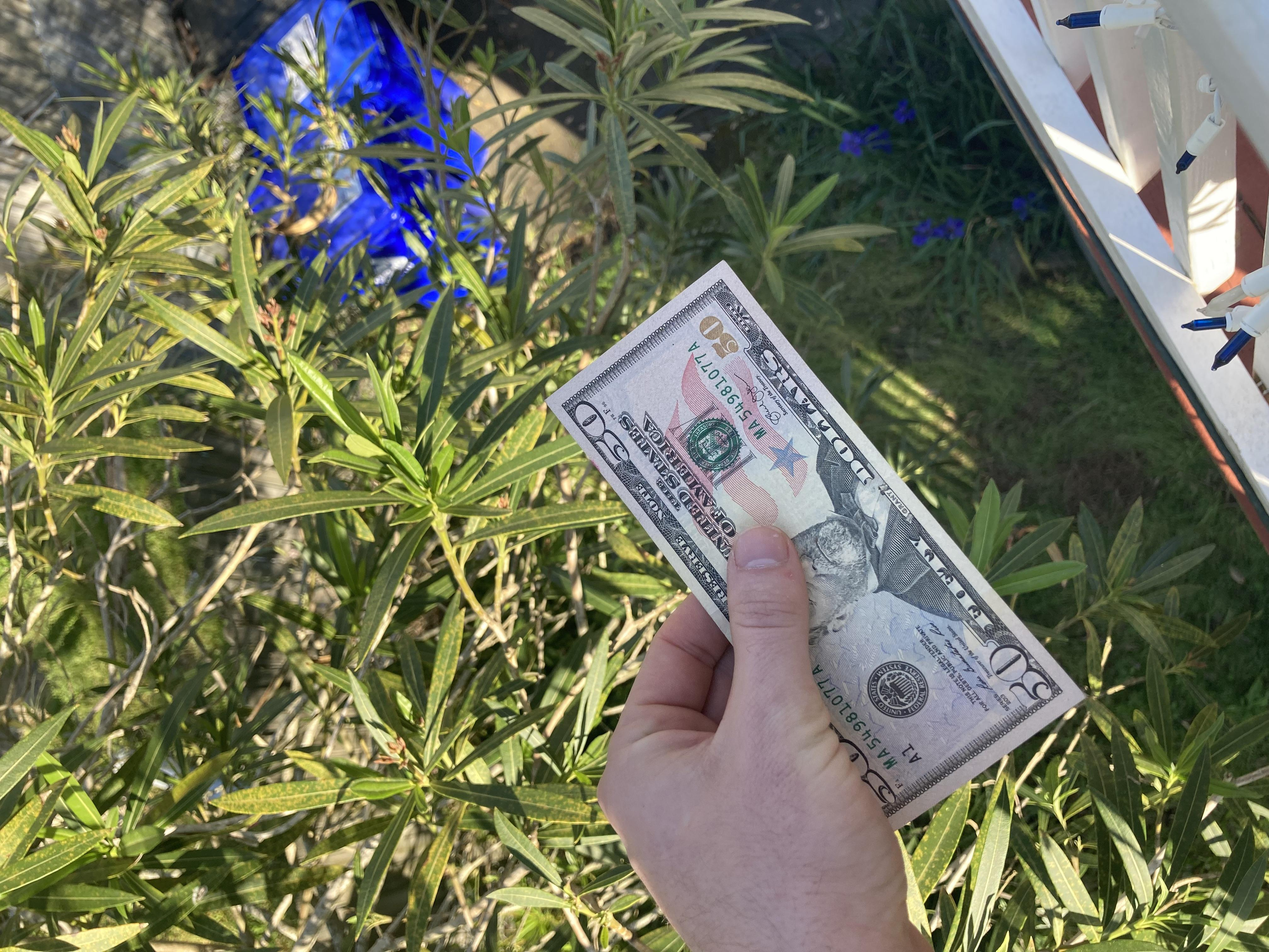fifty-front: (153, 408, 922, 818)
